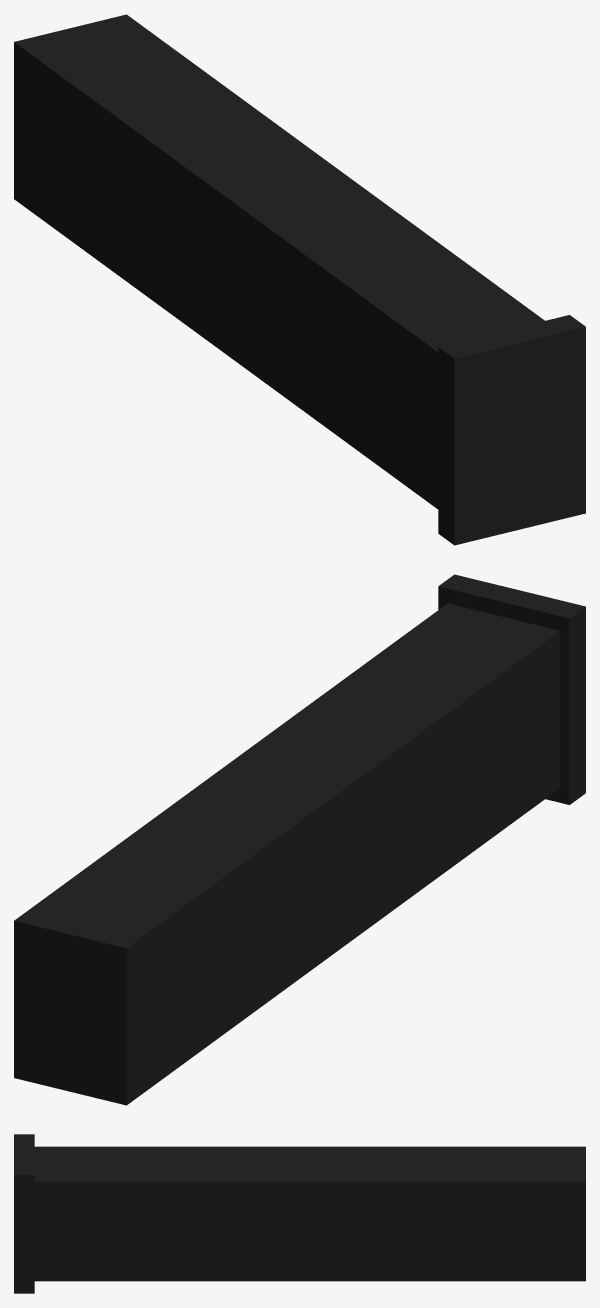
Rendered from Uzi_Mag50.fbx.
3 renders of one model, top to bottom at view 1: azimuth 30°, elevation 25°; view 2: azimuth 150°, elevation 25°; view 3: azimuth 270°, elevation 25°, orthographic. The views are drawn at different scales.
Parts seen in each view (by area): view 1: prims; view 2: prims; view 3: prims.
Boxes of the visible parts, x1,y1,x2,y2 form: prims: (14,14,585,545); prims: (14,574,585,1105); prims: (14,1134,585,1293).
Size of the model in its own units: 0.0168 by 0.0228 by 0.0996.
